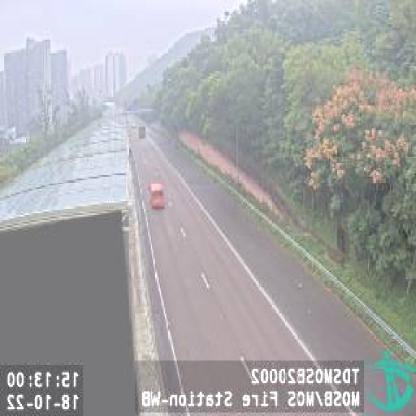Bus: (137, 122, 146, 140)
Car: (148, 180, 165, 210)
